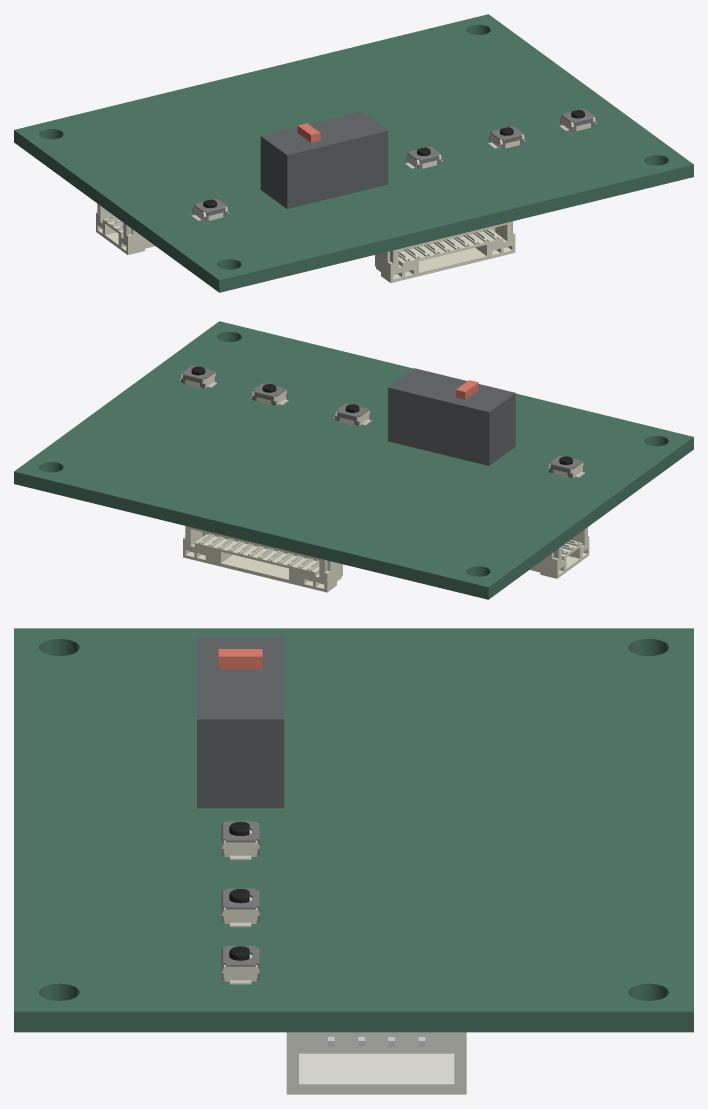
Rendered from panel.glb.
The picture shows the model from 3 angles, top to bottom: view 1: azimuth 30°, elevation 25°; view 2: azimuth 150°, elevation 25°; view 3: azimuth 270°, elevation 25°; orthographic projection. The views are drawn at different scales.
Parts seen in each view (by area): view 1: =>[0:1:1:32], =>[0:1:1:5], =>[0:1:1:31], =>[0:1:1:3] (×4), =>[0:1:1:15]; view 2: =>[0:1:1:32], =>[0:1:1:5], =>[0:1:1:29], =>[0:1:1:3] (×4), =>[0:1:1:15]; view 3: =>[0:1:1:32], =>[0:1:1:5], =>[0:1:1:20], =>[0:1:1:3] (×3), =>[0:1:1:23], =>[0:1:1:6], =>[0:1:1:19].
Part boxes in pixels (<box>): =>[0:1:1:32]: <box>14,14,693,292</box>; =>[0:1:1:5]: <box>260,111,388,208</box>; =>[0:1:1:31]: <box>375,221,515,282</box>; =>[0:1:1:3] (×4): <box>191,109,596,221</box>; =>[0:1:1:15]: <box>96,203,155,254</box>; =>[0:1:1:32]: <box>14,321,693,599</box>; =>[0:1:1:5]: <box>388,368,515,465</box>; =>[0:1:1:29]: <box>183,526,342,592</box>; =>[0:1:1:3] (×4): <box>179,366,584,477</box>; =>[0:1:1:15]: <box>530,527,589,578</box>; =>[0:1:1:32]: <box>14,628,693,1032</box>; =>[0:1:1:5]: <box>197,637,284,808</box>; =>[0:1:1:20]: <box>286,1053,466,1094</box>; =>[0:1:1:3] (×3): <box>221,821,259,984</box>; =>[0:1:1:23]: <box>299,1037,454,1053</box>; =>[0:1:1:6]: <box>218,649,262,669</box>; =>[0:1:1:19]: <box>286,1032,466,1036</box>.
Size of the model in its own units: 0.06 by 0.014 by 0.045.
